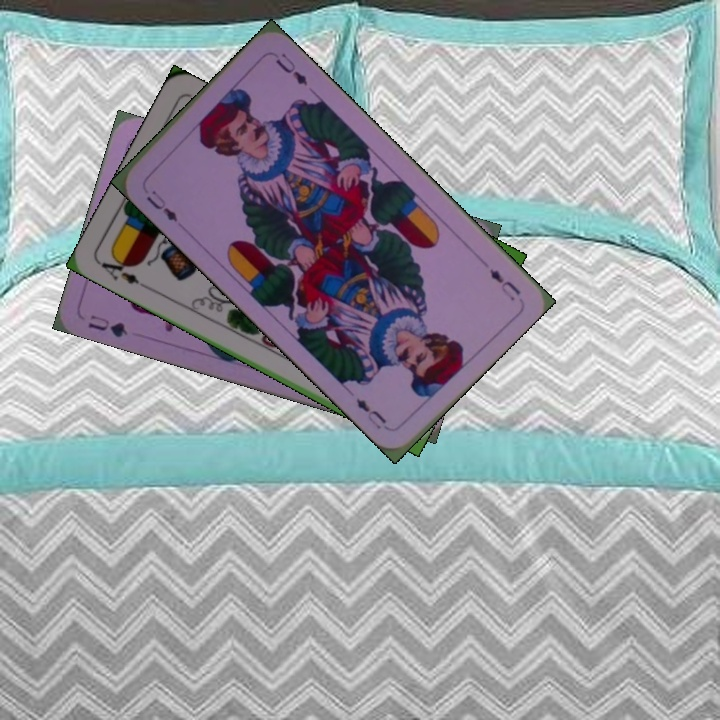EA: (95, 251, 151, 292)
EU: (142, 186, 181, 225), (485, 265, 524, 304)
GU: (84, 311, 130, 340)
